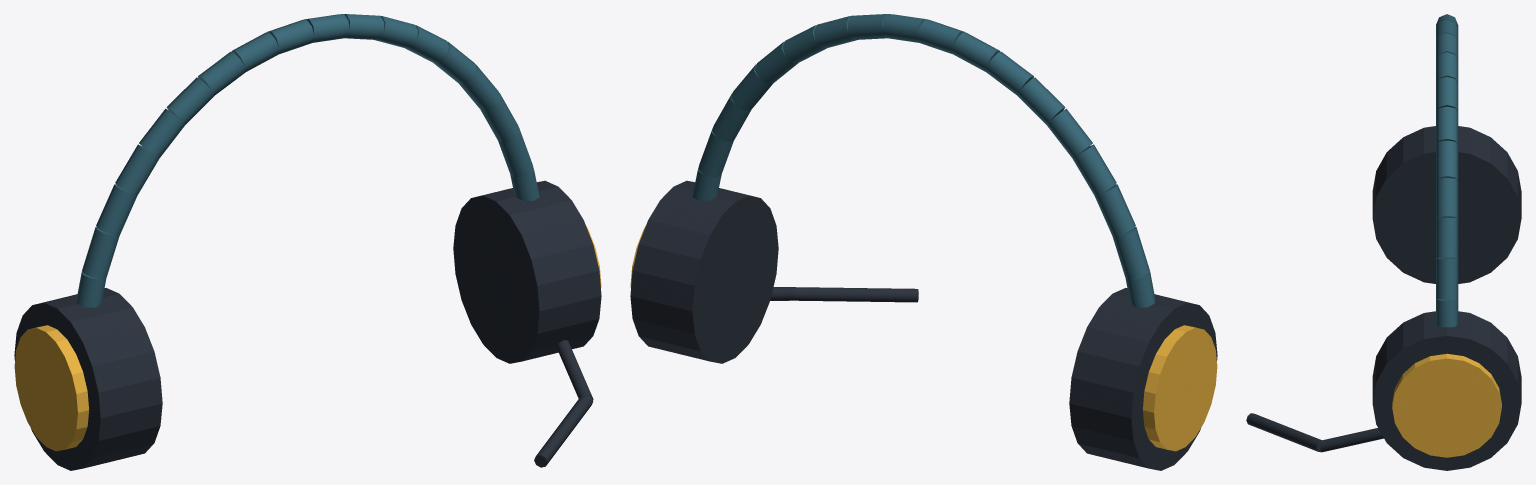
File: reference_gaming_headset.gltf
3 views of the same model, side by side, from view 1: azimuth 30°, elevation 25°; view 2: azimuth 150°, elevation 25°; view 3: azimuth 270°, elevation 25° (orthographic). The views are drawn at different scales.
Parts seen in each view (by area): view 1: Gaming Headset; view 2: Gaming Headset; view 3: Gaming Headset.
Boxes of the visible parts, x1=… form: Gaming Headset: x1=14, y1=14, x2=601, y2=470; Gaming Headset: x1=630, y1=14, x2=1217, y2=470; Gaming Headset: x1=1246, y1=14, x2=1521, y2=470.
Bounding box in the file's own units: 0.582 × 0.4194 × 0.3064.
3 materials, 3 textured.
